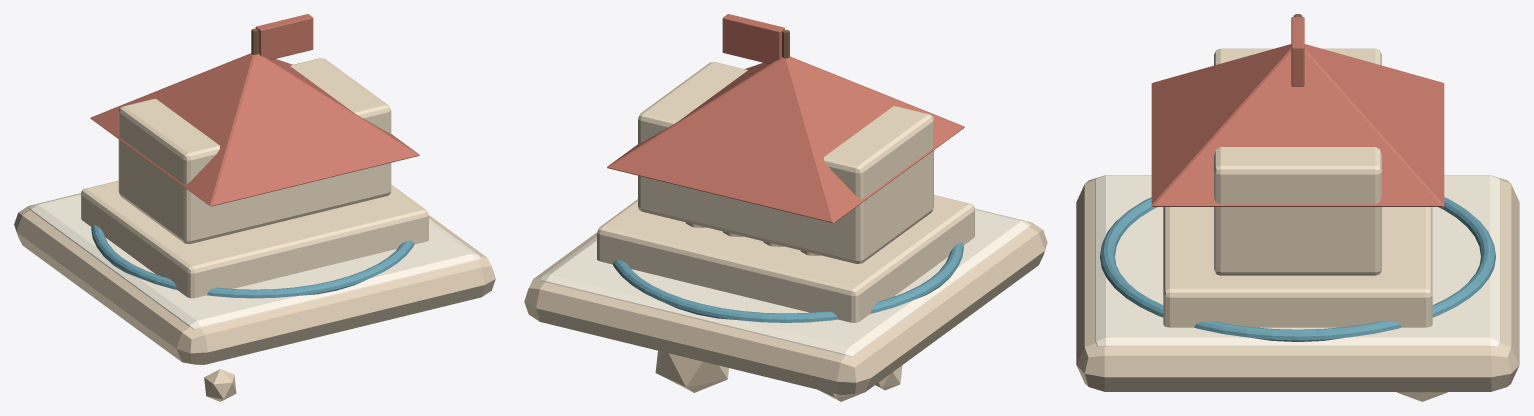
File: island_rag.glb
3 views of the same model, side by side, from view 1: azimuth 30°, elevation 25°; view 2: azimuth 150°, elevation 25°; view 3: azimuth 270°, elevation 25° (orthographic). The views are drawn at different scales.
Parts seen in each view (by area): view 1: island_rag; view 2: island_rag; view 3: island_rag.
Boxes of the visible parts, box(x1,y1,x2,y2) form: island_rag: box(14, 14, 495, 401); island_rag: box(524, 14, 1047, 401); island_rag: box(1076, 14, 1519, 401).
Bounding box in the file's own units: 2.04 × 2.07 × 2.04.
